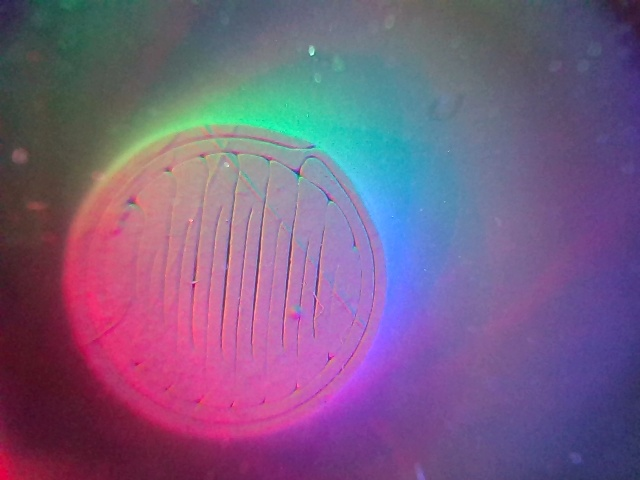contact: (66, 126, 383, 435)
